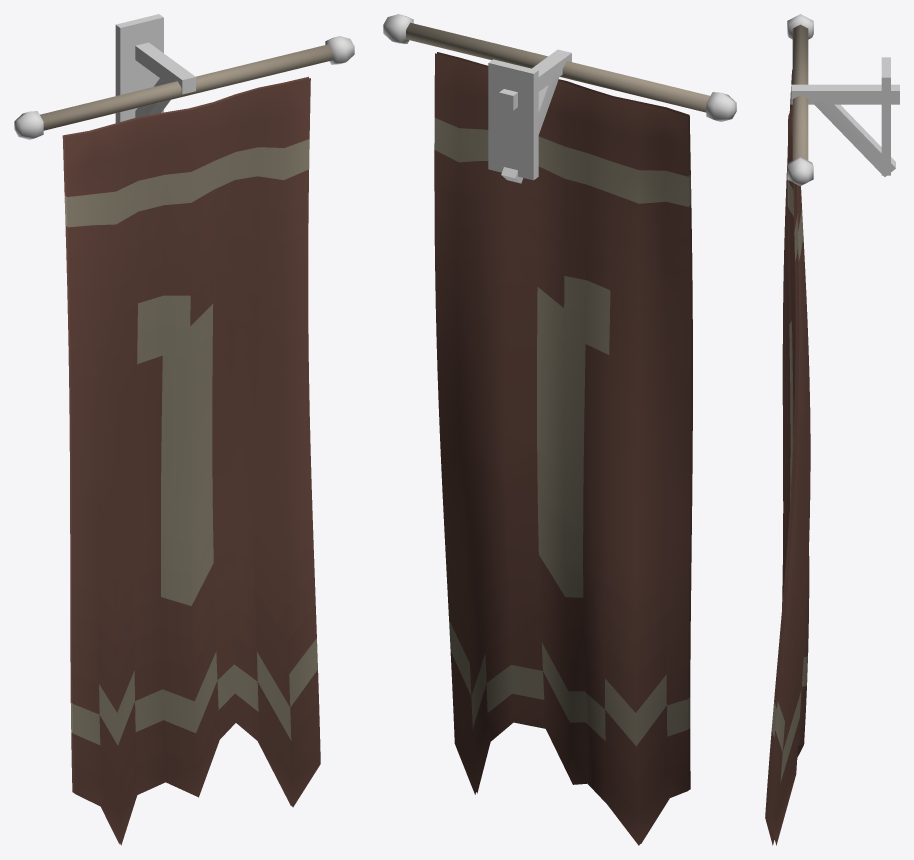
File: banner.glb
The picture shows the model from 3 angles, left to right: view 1: azimuth 30°, elevation 25°; view 2: azimuth 150°, elevation 25°; view 3: azimuth 270°, elevation 25°; orthographic projection. The views are drawn at different scales.
Visible parts, largest first — view 1: banner; view 2: banner; view 3: banner.
Boxes of the visible parts, bbox=[...] form: banner: bbox=[14, 14, 354, 845]; banner: bbox=[383, 14, 736, 845]; banner: bbox=[765, 14, 899, 845].
Size of what is drawn, in the model's own units: 1.24 by 2.7 by 0.4475.
